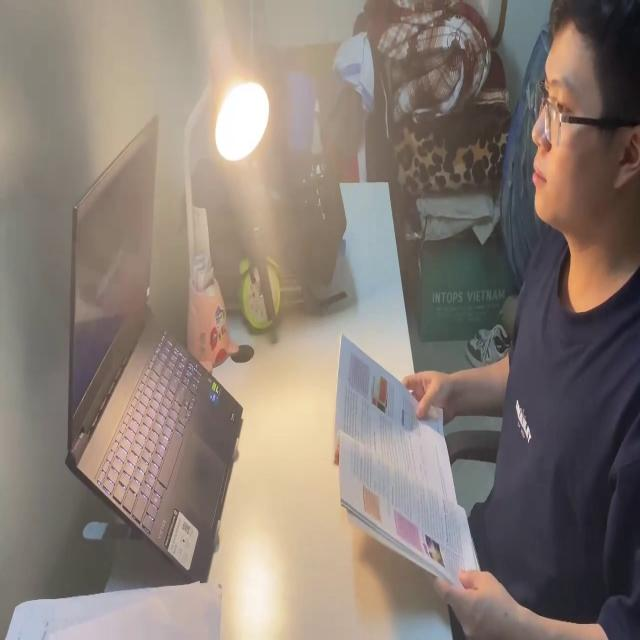book: (324, 327, 480, 594), (6, 581, 224, 640)
laptop: (61, 109, 243, 581)
student: (391, 0, 640, 640)
